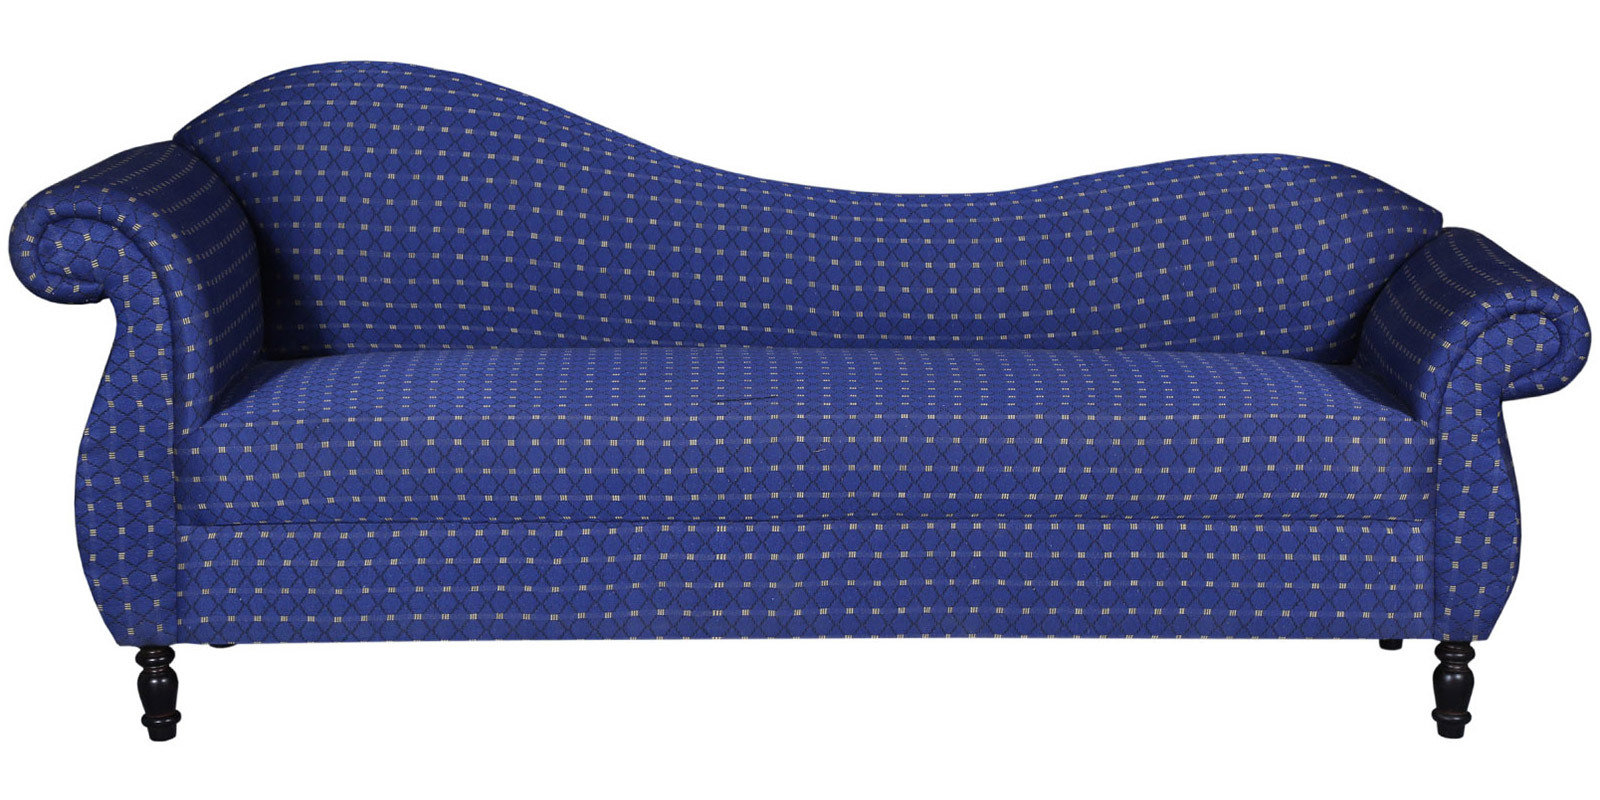Bayley Three Seater Sofa in Blue Color by Amberville: (23, 51, 1600, 782)
